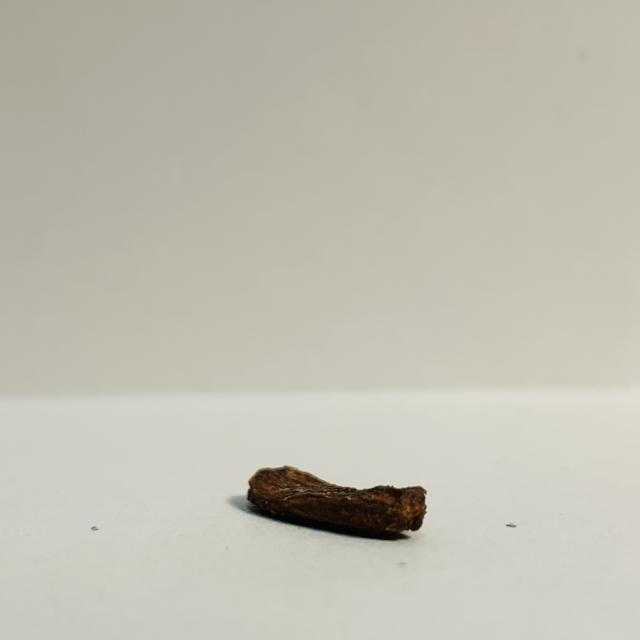Flat_cocoabeans: (105, 397, 525, 560)
